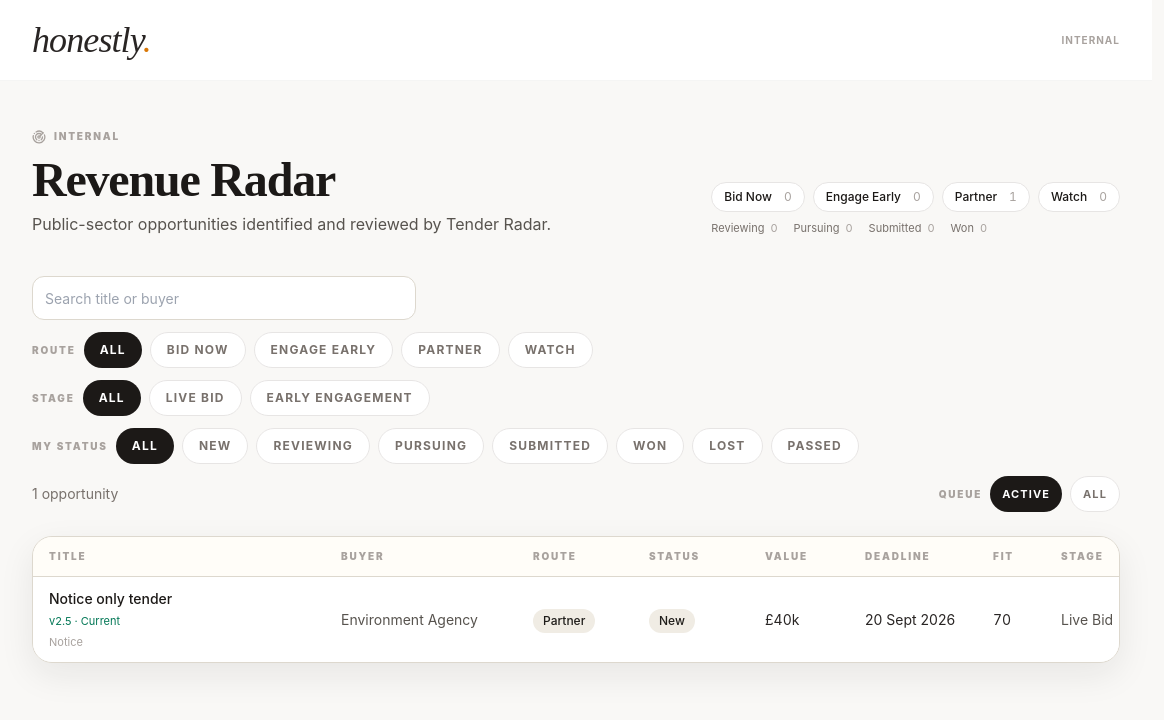
Test case: RevenueRadarScreen › shows the notice-only message without document controls
The image size is (1164, 720).
Expected: the text "Notice" is shown, [49,634,83,648]
Click the button "Notice only tender": [592, 620] box [33,577,1152,662]
(page scrolled)
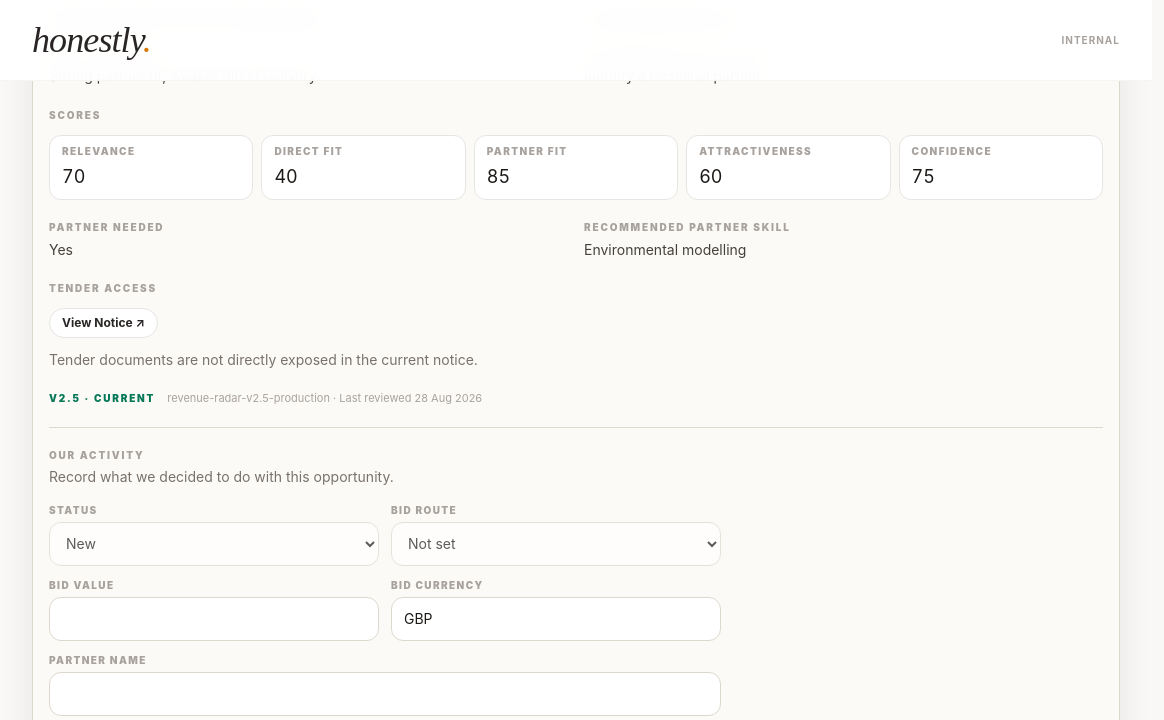
Expected: the link "View Notice ↗" is shown, [49,308,158,338]
Expected: the text "Tender documents are not directly exposed in the current notice." is shown, [49,351,478,368]
